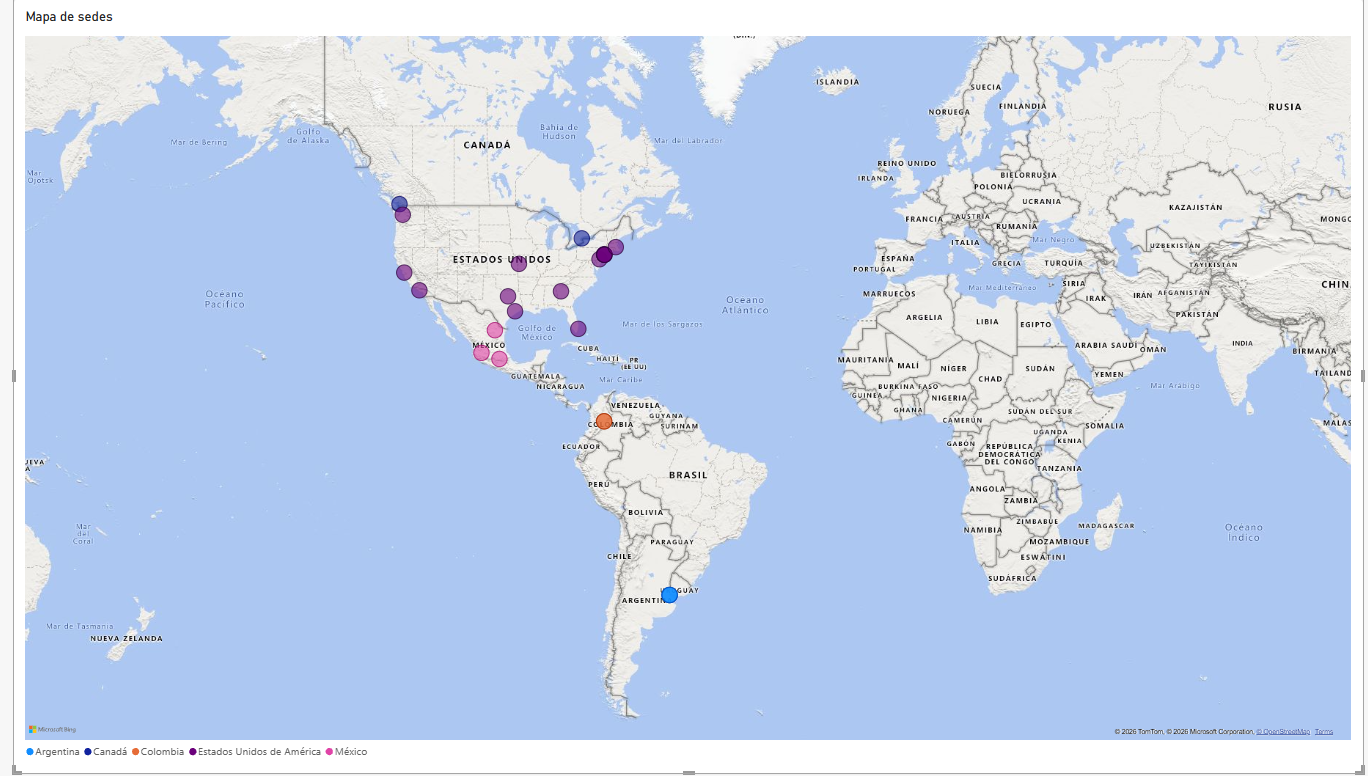

The page's visual inventory and layout, read from the dashboard file:
{"tool":"powerbi","page":{"name":"Page 4","canvas":[1920,1080],"ordinal":3},"visuals":[{"type":"map","title":"Mapa de sedes","fields":{"Series":["torneo vw_SedeDetalle.pais"],"X":["torneo vw_SedeDetalle.longitud"],"Y":["torneo vw_SedeDetalle.latitud"]},"box":[21.8,0,1842.1,1058.7],"z":0}]}

Visuals, with their boxes in screenshot pixels (x1, y1, x2, y2), scaled from the page's 1920x1080 canvas onto the 1368x776 screenshot:
"Mapa de sedes" map: (x1=16, y1=0, x2=1328, y2=761)
